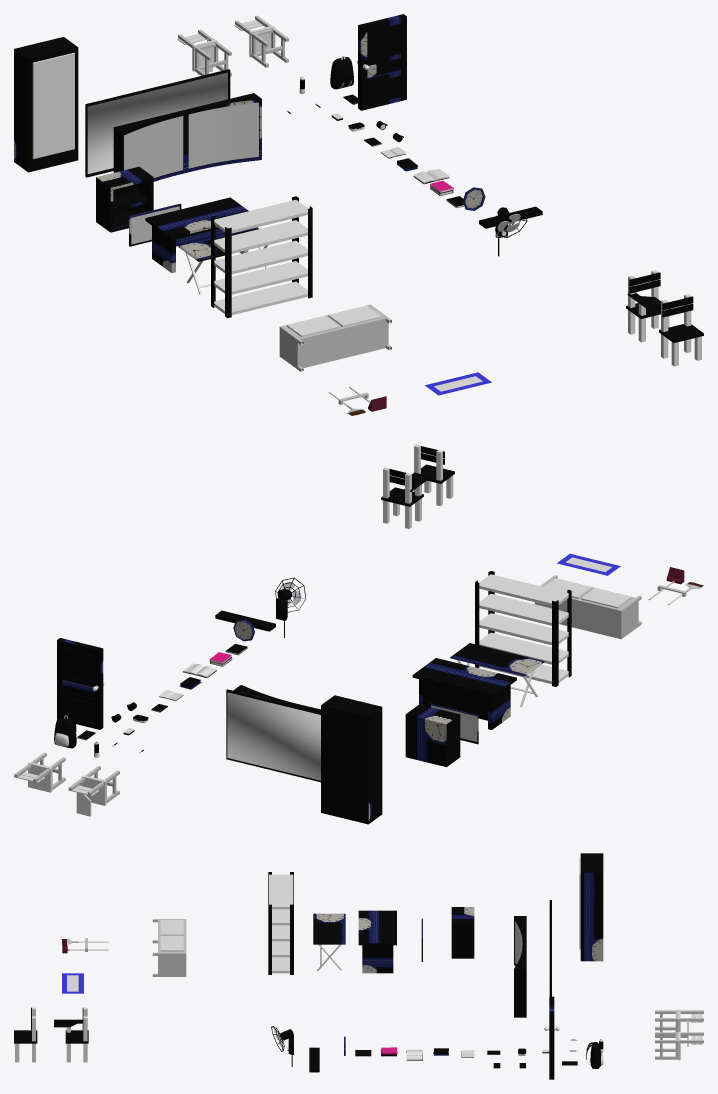
The model's file is classroom.fbx.
3 views of the same model, one above another, from view 1: azimuth 30°, elevation 25°; view 2: azimuth 150°, elevation 25°; view 3: azimuth 270°, elevation 25° (orthographic). The views are drawn at different scales.
Parts seen in each view (by area): view 1: msh_BookShelf, msh_ClassroomBlackboard, msh_ClassroomCabinet, msh_ClassroomWhiteboard, msh_Cabinet, msh_Door, msh_ClassroomTeacherDesk, msh_WallShelf, msh_WoodenChair0, msh_ClassroomArmchair, msh_WoodenChair1, msh_ClassroomArmChair1 (+5 smaller); view 2: msh_ClassroomCabinet, msh_BookShelf, msh_ClassroomWhiteboard, msh_ClassroomTeacherDesk, msh_Door, msh_Cabinet, msh_WallShelf, msh_FoldingTable, msh_ClassroomArmchair, msh_ClassroomArmChair1, msh_WoodenChair0, msh_WoodenChair1 (+4 smaller); view 3: msh_ClassroomCabinet, msh_BookShelf, msh_ClassroomTeacherDesk, msh_Cabinet, msh_ClassroomBlackboard, msh_WallShelf, msh_FoldingTable, msh_ClassroomArmchair, msh_ClassroomArmChair1, msh_WoodenChair1, msh_WoodenChair0, msh_Door (+2 smaller).
Part boxes in pixels (bbox=[...]): msh_BookShelf: bbox=[211, 196, 312, 318]; msh_ClassroomBlackboard: bbox=[113, 93, 261, 181]; msh_ClassroomCabinet: bbox=[14, 37, 78, 172]; msh_ClassroomWhiteboard: bbox=[85, 69, 230, 177]; msh_Cabinet: bbox=[279, 304, 391, 371]; msh_Door: bbox=[357, 14, 406, 110]; msh_ClassroomTeacherDesk: bbox=[145, 197, 248, 272]; msh_WallShelf: bbox=[96, 166, 153, 232]; msh_WoodenChair0: bbox=[659, 294, 703, 366]; msh_ClassroomArmchair: bbox=[626, 270, 669, 342]; msh_WoodenChair1: bbox=[234, 15, 288, 67]; msh_ClassroomArmChair1: bbox=[177, 29, 231, 76]; msh_ClassroomCabinet: bbox=[321, 695, 382, 824]; msh_BookShelf: bbox=[475, 571, 571, 686]; msh_ClassroomWhiteboard: bbox=[226, 689, 320, 782]; msh_ClassroomTeacherDesk: bbox=[412, 658, 516, 729]; msh_Door: bbox=[57, 638, 104, 729]; msh_Cabinet: bbox=[534, 575, 641, 639]; msh_WallShelf: bbox=[405, 704, 460, 767]; msh_FoldingTable: bbox=[450, 643, 544, 707]; msh_ClassroomArmchair: bbox=[381, 467, 430, 528]; msh_ClassroomArmChair1: bbox=[68, 766, 119, 816]; msh_WoodenChair0: bbox=[414, 444, 454, 506]; msh_WoodenChair1: bbox=[14, 752, 65, 792]; msh_ClassroomCabinet: bbox=[579, 853, 603, 961]; msh_BookShelf: bbox=[268, 872, 293, 974]; msh_ClassroomTeacherDesk: bbox=[358, 910, 396, 973]; msh_Cabinet: bbox=[152, 919, 186, 976]; msh_ClassroomBlackboard: bbox=[514, 916, 526, 1017]; msh_WallShelf: bbox=[451, 907, 474, 958]; msh_FoldingTable: bbox=[313, 913, 345, 970]; msh_ClassroomArmchair: bbox=[54, 1007, 88, 1062]; msh_ClassroomArmChair1: bbox=[655, 1009, 703, 1046]; msh_WoodenChair1: bbox=[655, 1031, 703, 1060]; msh_WoodenChair0: bbox=[14, 1007, 37, 1062]; msh_Door: bbox=[544, 996, 559, 1079].
Bounding box in the file's own units: 12.89 × 4.43 × 26.76.
